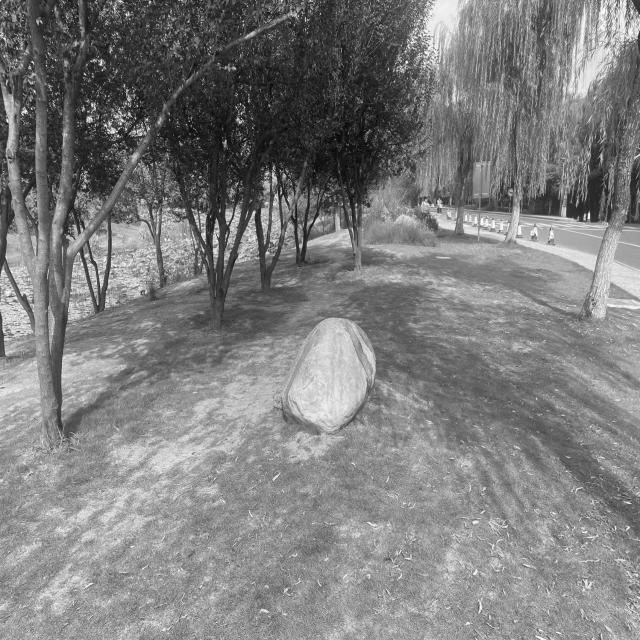Stone: (283, 318, 377, 433)
